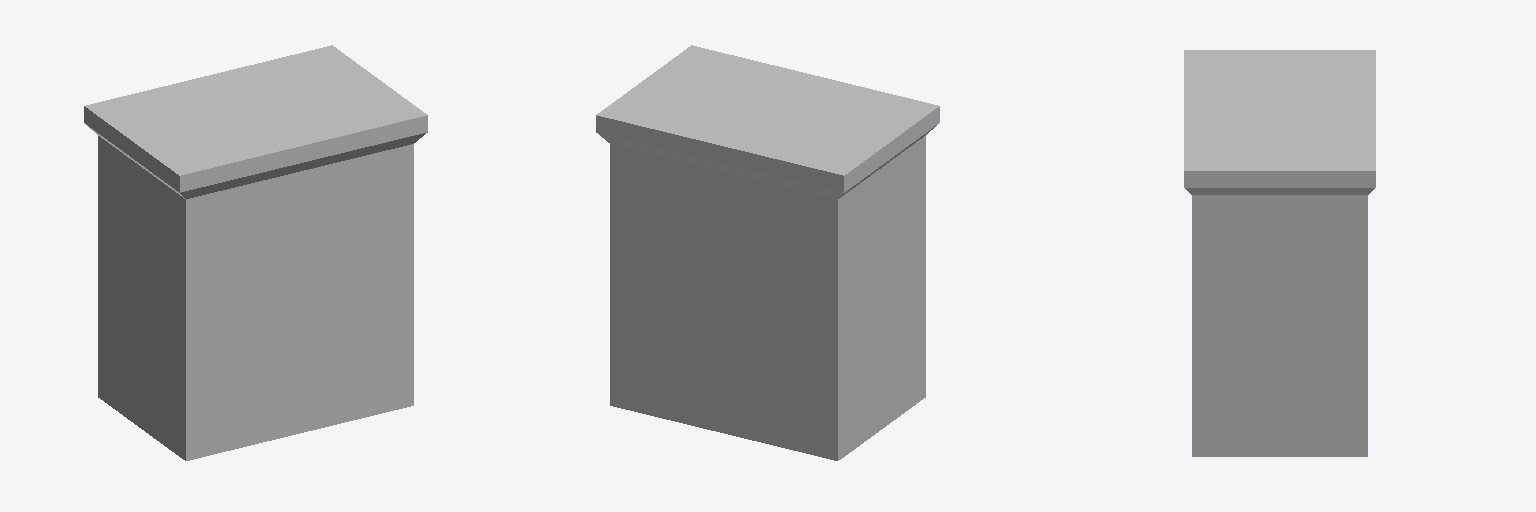
File: residential_brick_3.obj
The picture shows the model from 3 angles: view 1: azimuth 30°, elevation 25°; view 2: azimuth 150°, elevation 25°; view 3: azimuth 270°, elevation 25°; orthographic projection.
Parts seen in each view (by area): view 1: BUILDING2; view 2: BUILDING2; view 3: BUILDING2.
Boxes of the visible parts, box(x1,y1,x2,y2) form: BUILDING2: box(84, 45, 427, 460); BUILDING2: box(596, 45, 939, 460); BUILDING2: box(1184, 50, 1375, 456).
Size of the model in its own units: 0.909 by 1.02 by 0.6055.